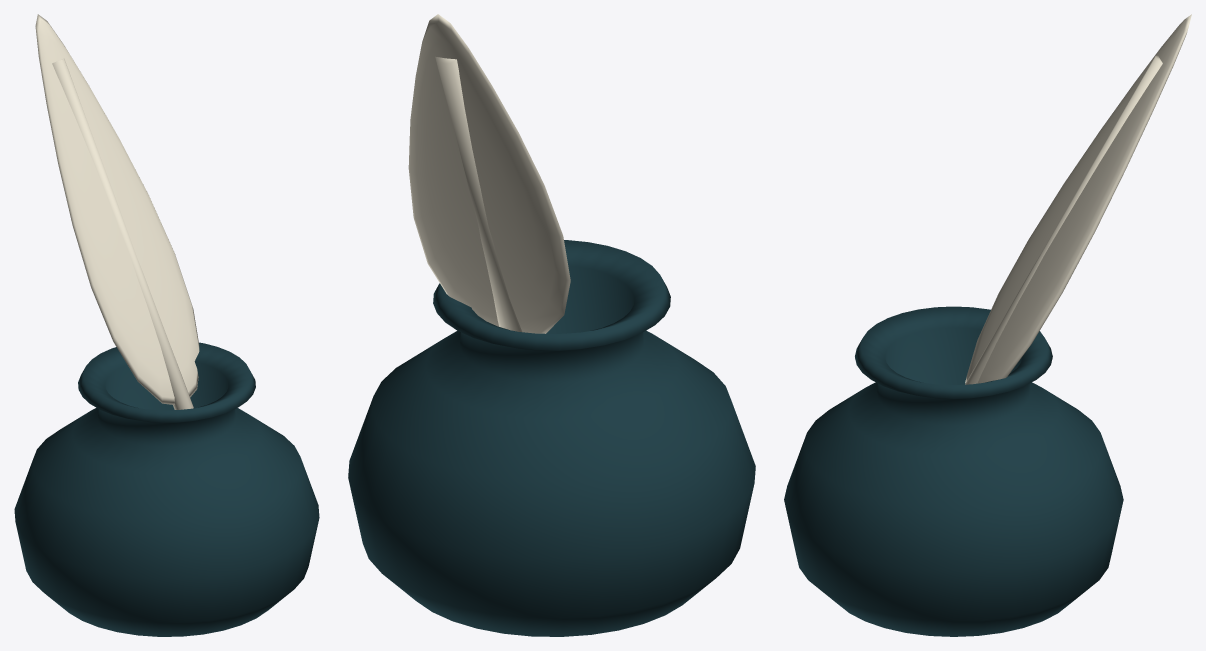
Rendered from quill-inkpot.glb.
3 views of the same model, side by side, from view 1: azimuth 30°, elevation 25°; view 2: azimuth 150°, elevation 25°; view 3: azimuth 270°, elevation 25° (orthographic). The views are drawn at different scales.
Parts seen in each view (by area): view 1: QuillAndInkpot; view 2: QuillAndInkpot; view 3: QuillAndInkpot.
Boxes of the visible parts, <box> form: QuillAndInkpot: <box>14,14,319,636</box>; QuillAndInkpot: <box>348,14,755,636</box>; QuillAndInkpot: <box>784,14,1191,636</box>.
Bounding box in the file's own units: 0.168 × 0.3046 × 0.2018.
